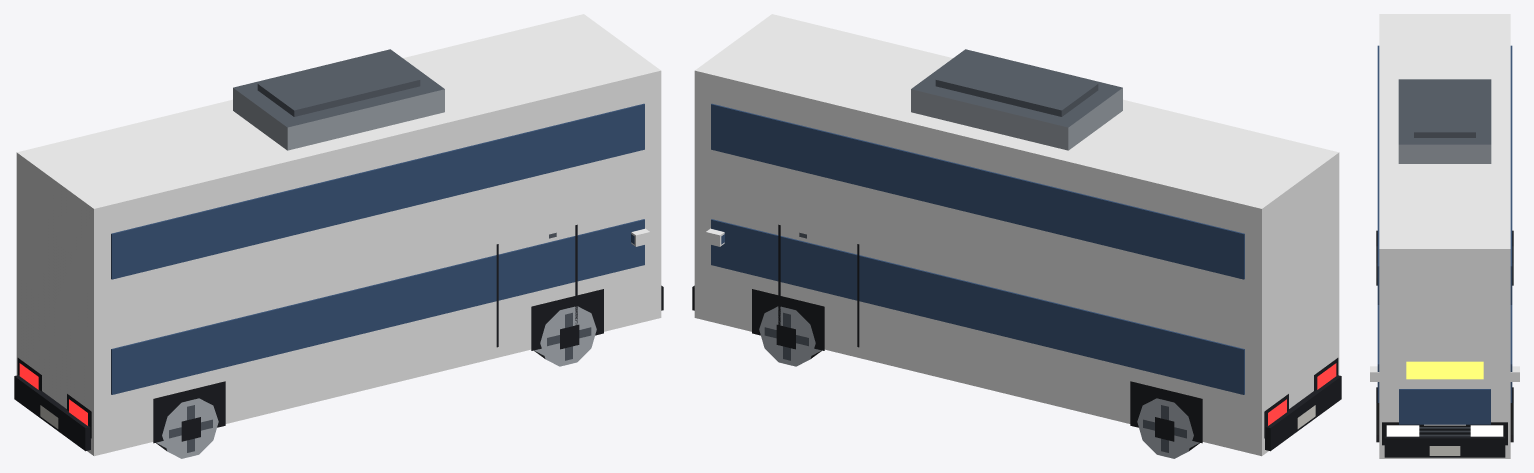
The model's file is bus_double.glb.
3 views of the same model, side by side, from view 1: azimuth 30°, elevation 25°; view 2: azimuth 150°, elevation 25°; view 3: azimuth 270°, elevation 25° (orthographic). The views are drawn at different scales.
Visible parts, largest first — view 1: bus_double; view 2: bus_double; view 3: bus_double.
Boxes of the visible parts, box(x1,y1,x2,y2) form: bus_double: box(14, 14, 663, 458); bus_double: box(692, 14, 1341, 458); bus_double: box(1370, 14, 1519, 458).
Bounding box in the file's own units: 0.7356 × 0.363 × 0.194.
